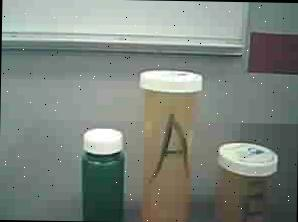Bottle A: (132, 68, 206, 222)
Bottle B: (210, 140, 279, 222)
Bottle C: (77, 122, 130, 221)
